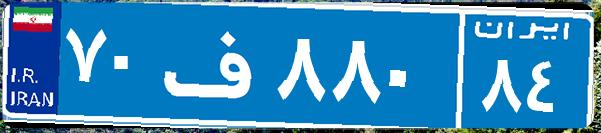0: (385, 28, 445, 110), (110, 28, 158, 105)
4: (525, 38, 570, 115)
7: (57, 26, 110, 107)
8: (273, 28, 330, 110), (330, 28, 385, 110), (475, 38, 525, 113)
ف: (158, 15, 273, 115)
